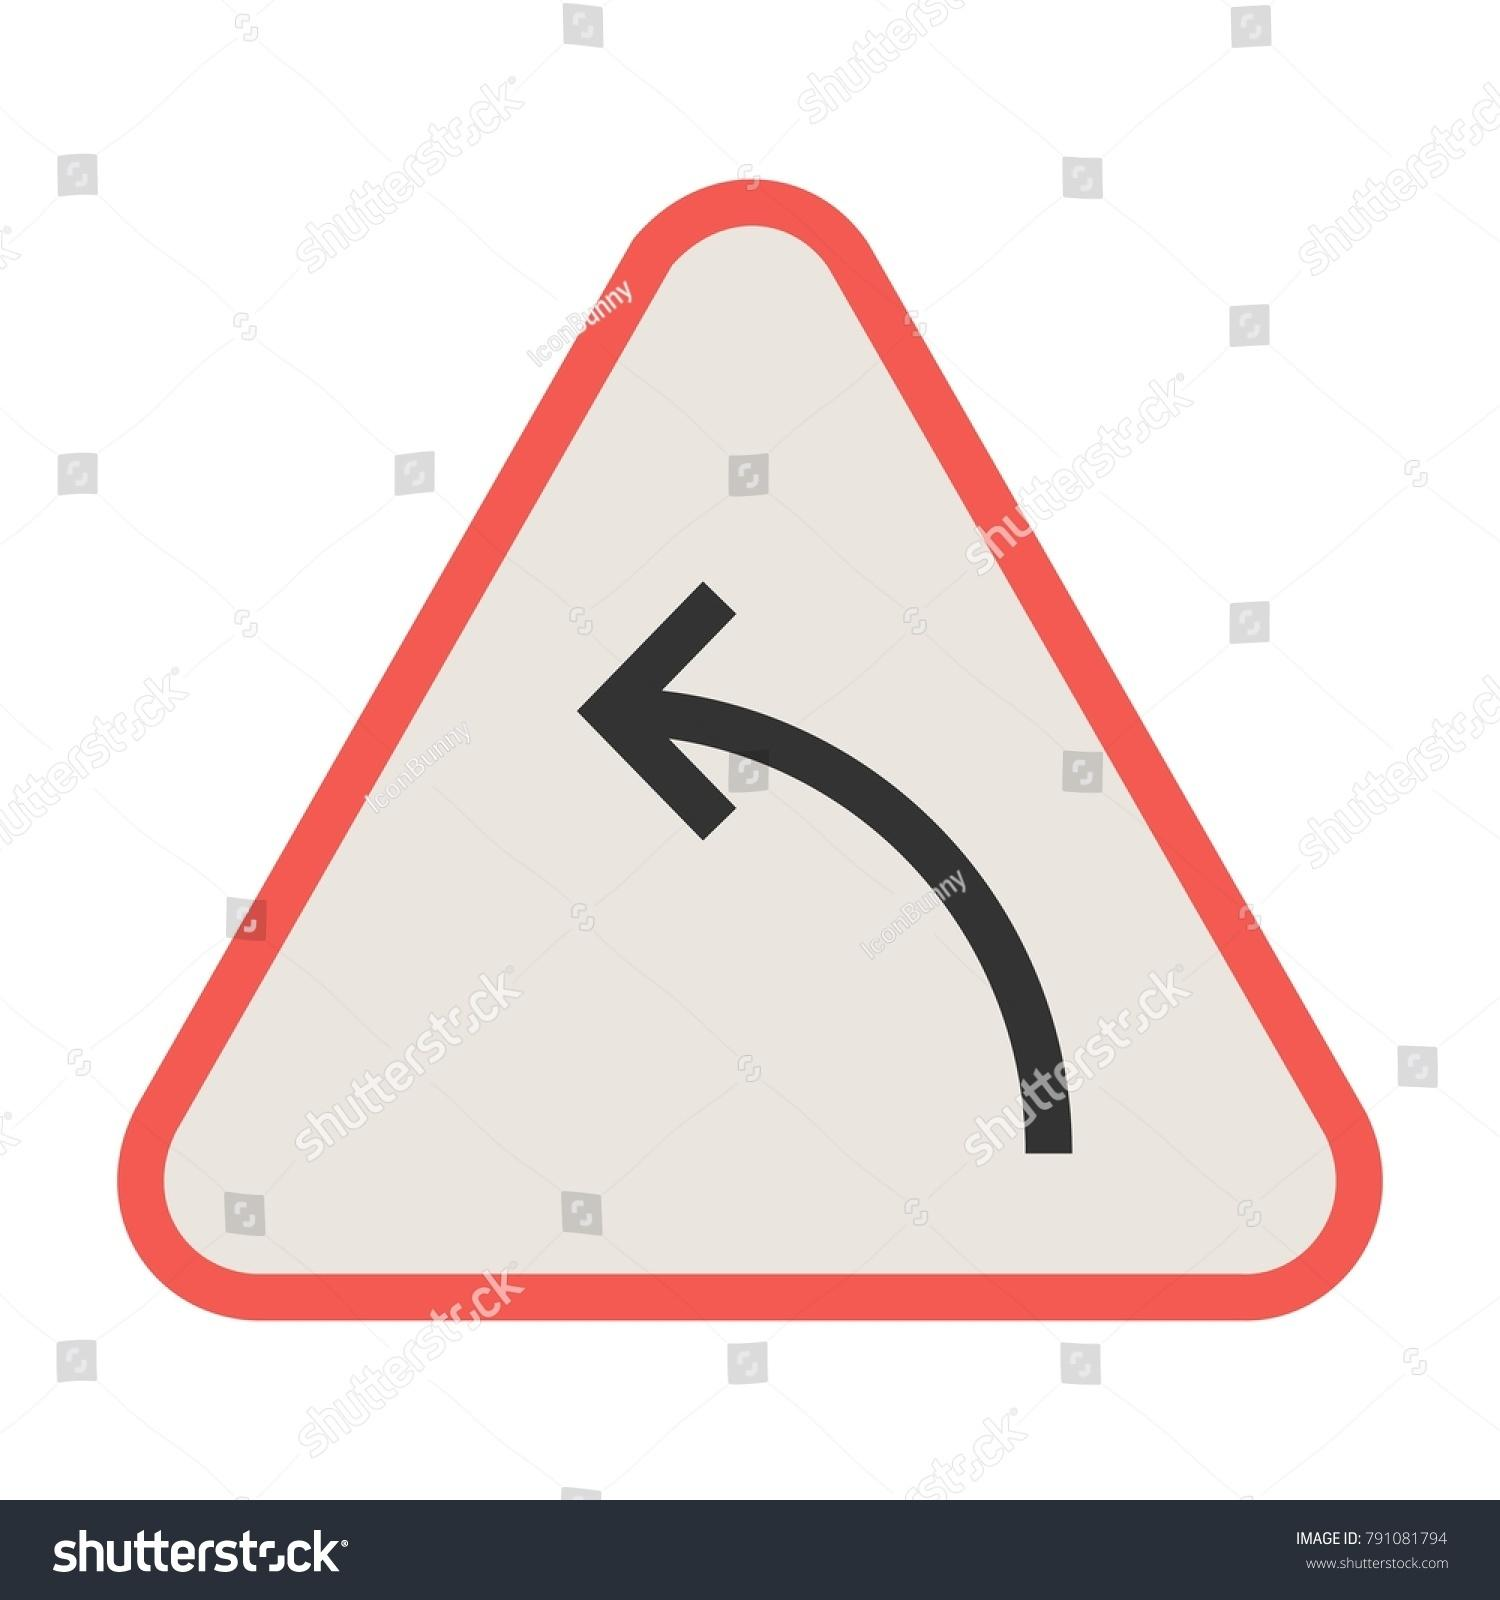Left hand curve: (187, 190, 1376, 1359)
